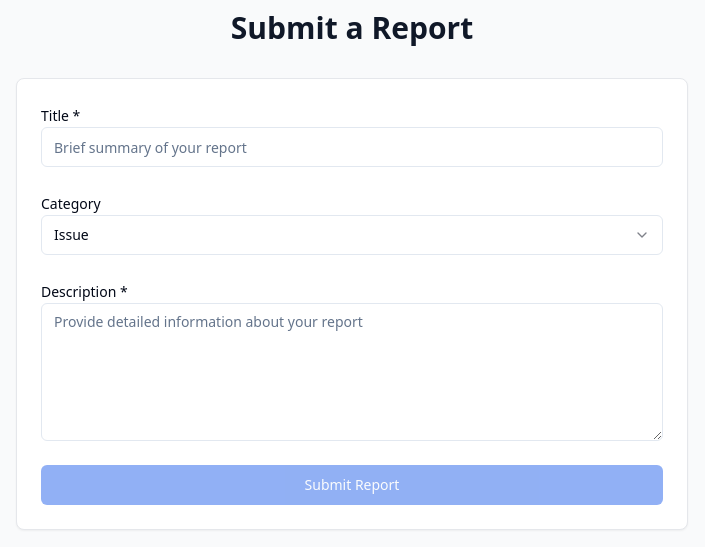
Test: ReportForm › when magic link is valid › enables submit button when form is filled
The image size is (705, 547).
Type "Test Title" into the field labelled "Title *" at (352, 147), box x1=41 y1=127 x2=663 y2=167
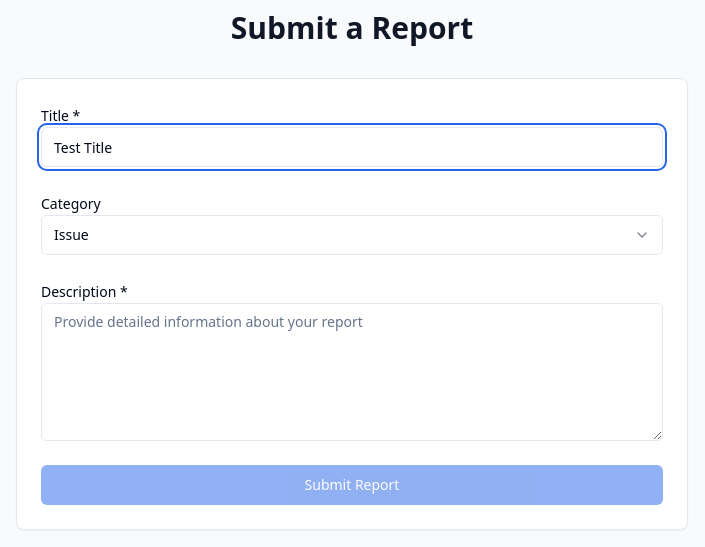
Type "Test Description" into the text box labelled "Description *" at (352, 372), box x1=41 y1=303 x2=663 y2=441
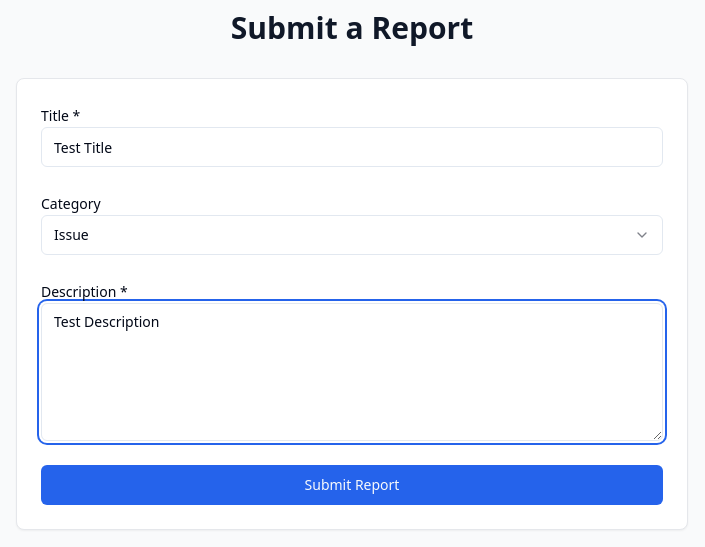
Expected: the button "Submit Report" is enabled, x1=41 y1=465 x2=663 y2=505
